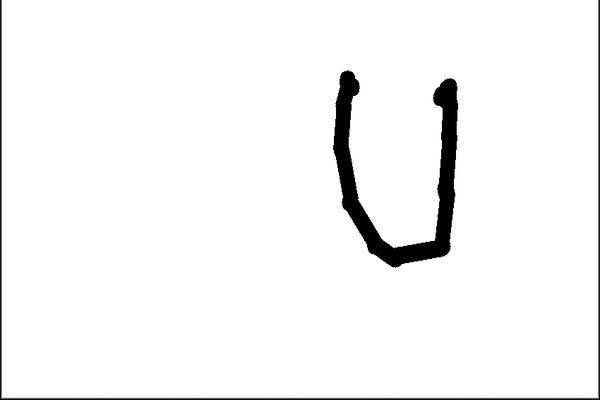U: (330, 67, 466, 264)
